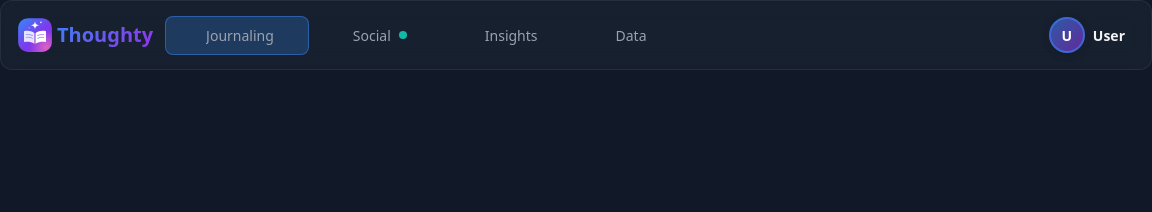
Test: NavMenu unread messages › counts the unread messages beside Messages, with a dot on its closed group
Expected: the element with class "nav-group-dot" is shown, 399,31 -> 407,39
Click the button "Social". click: (377, 35)
box: 313,16 -> 441,54
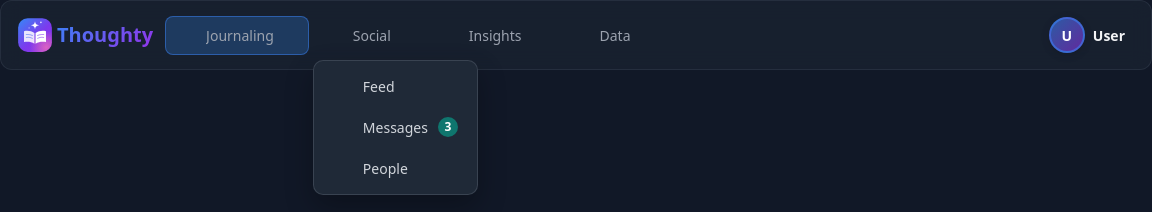
Result: the text with class "nav-badge" reads "3" at 444,118 -> 451,135
Result: the element with class "nav-group-dot" is gone
